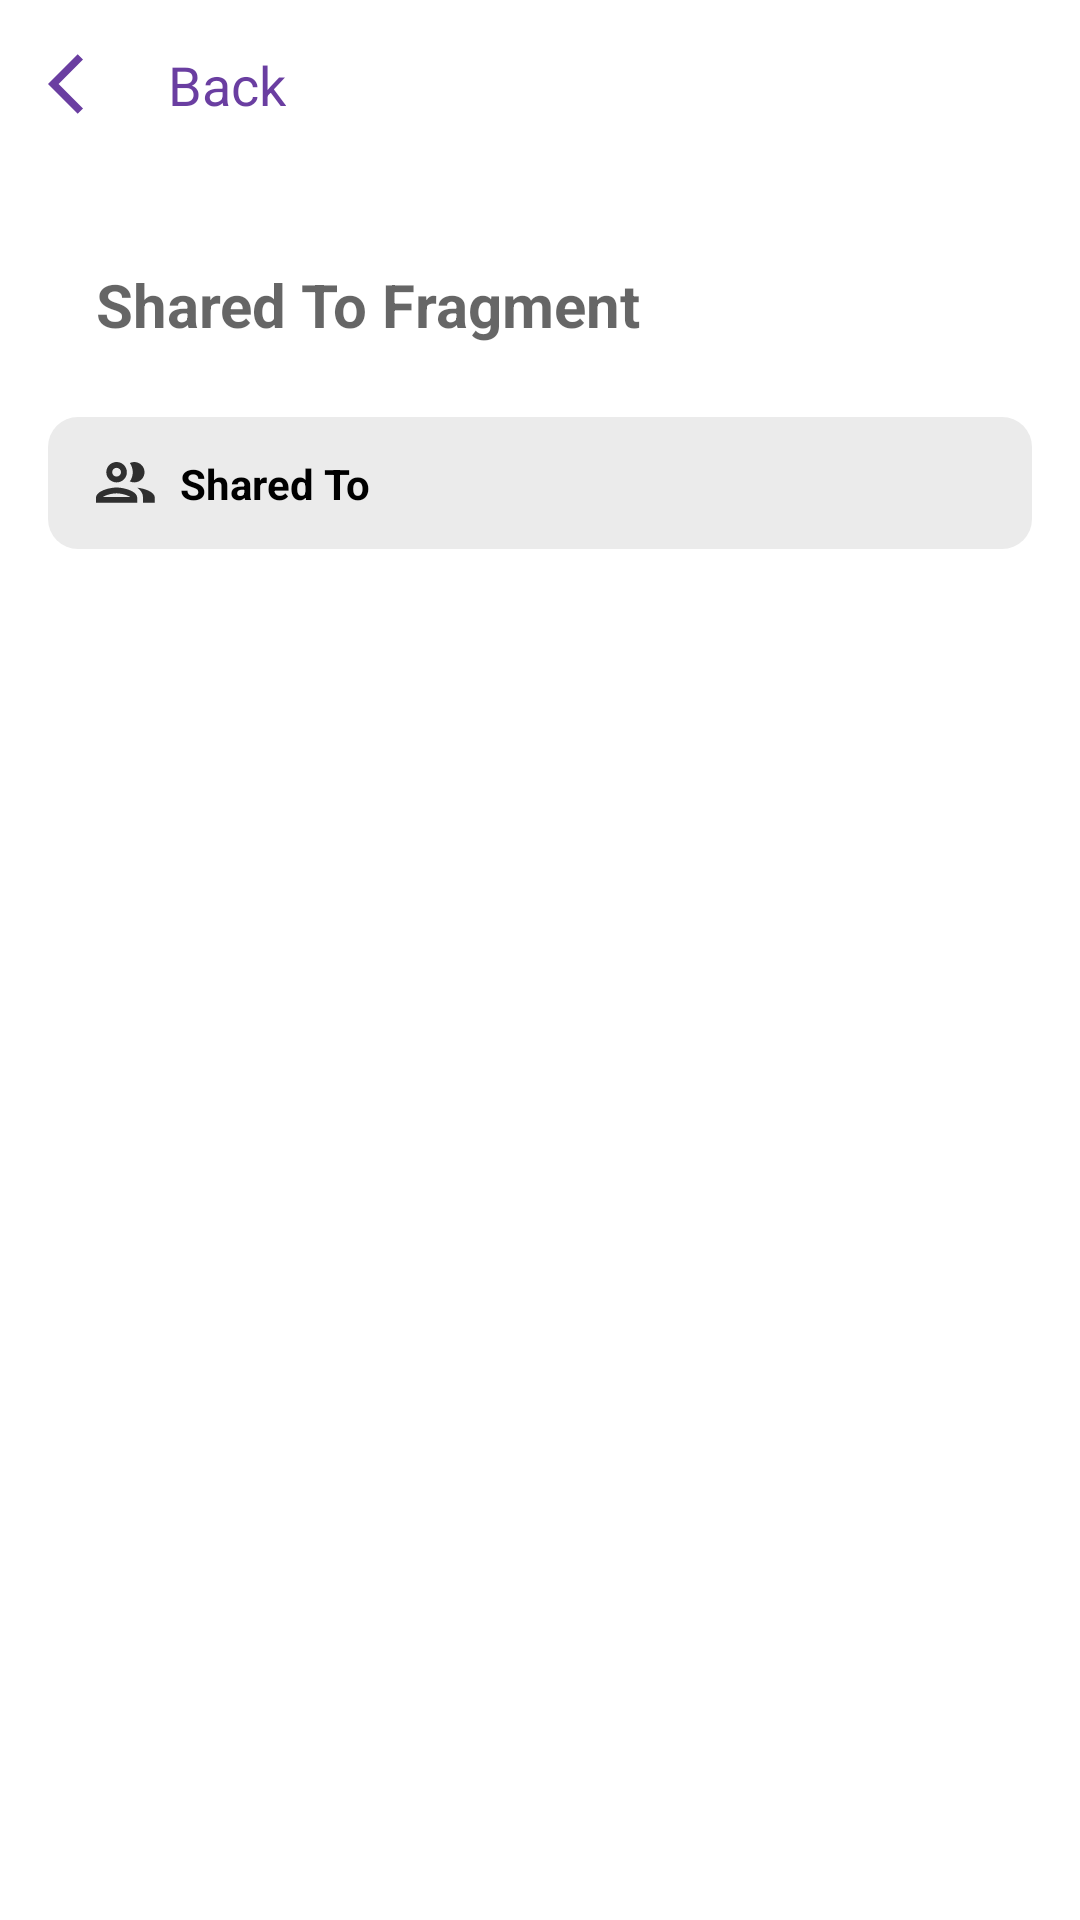

Locate icon controls on the screen. Image size 1080w x 1920h, boxes as {"left": x1, "top": y1, "right": x2, "bottom": y2}.
people: {"left": 96, "top": 462, "right": 155, "bottom": 503}
